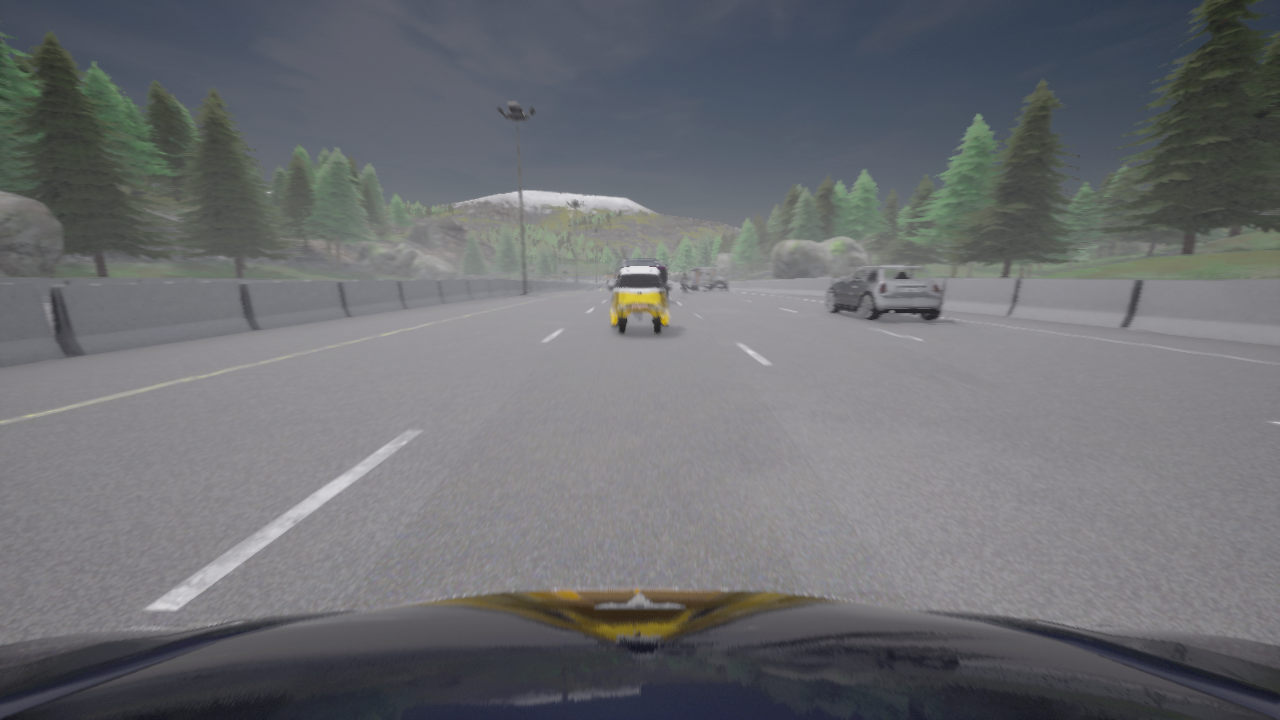cyclist: (0, 588, 1279, 719), (825, 266, 942, 320), (608, 268, 671, 334), (620, 259, 668, 298), (689, 268, 715, 290), (704, 276, 728, 291), (679, 279, 687, 292)
